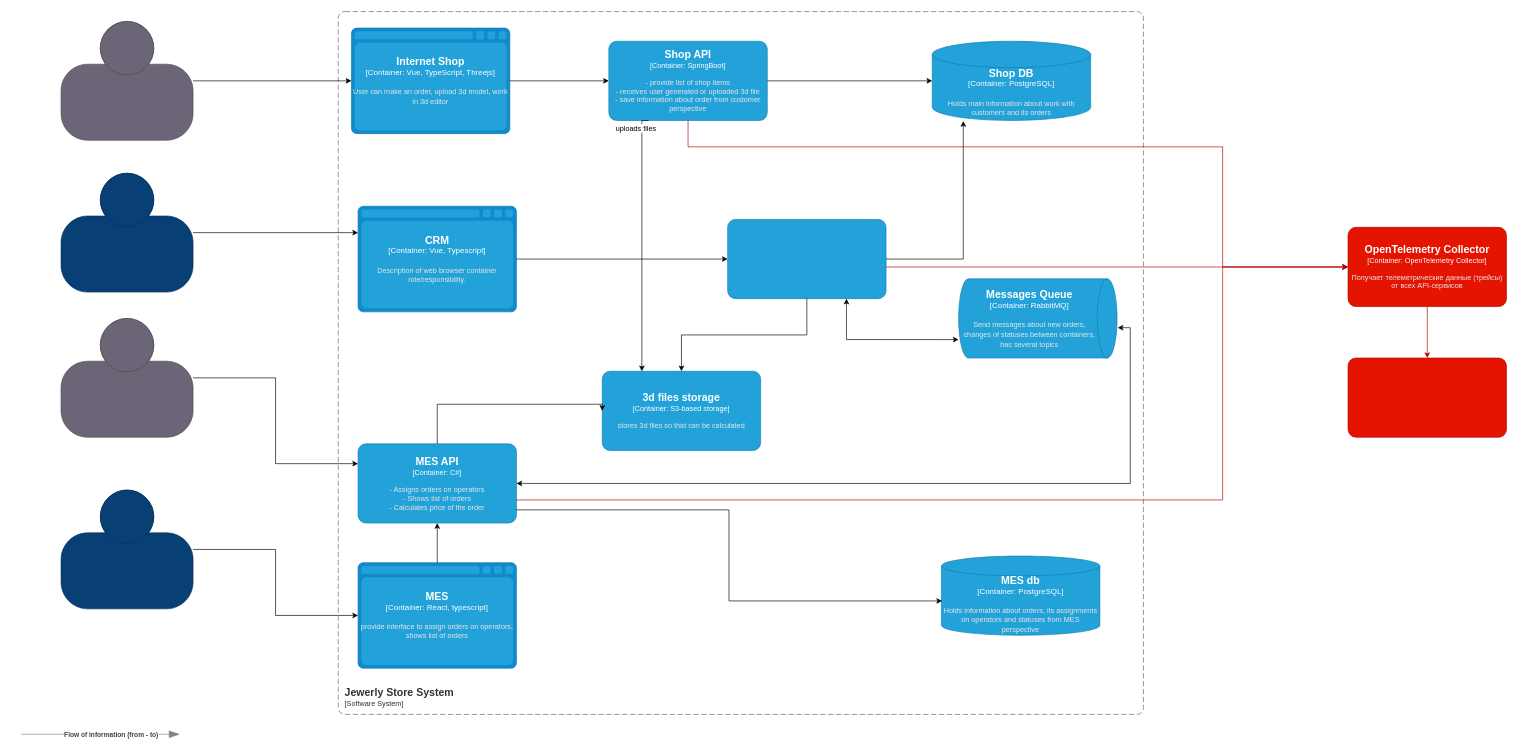
The diagram is 1518 pixels wide and 756 high, and some of its shapes have lost their labels. Here are the shapes that lost their labels. From the top down, the centre of each, then its label:
point (126, 80): Customer [Person] Description of external person.
point (126, 232): Seller [Person] Operates with order, confirms manufacturing for the user
point (806, 259): CRM API [Container: SpringBoot] Description of container role/responsibility.
point (126, 377): API user [Person] Description of external person.
point (1426, 397): Jaeger [Container: Jaeger] Хранит и визуализирует собранные трейсы
point (126, 549): Operator [Person] Takes order in work, manufactures jewerly
